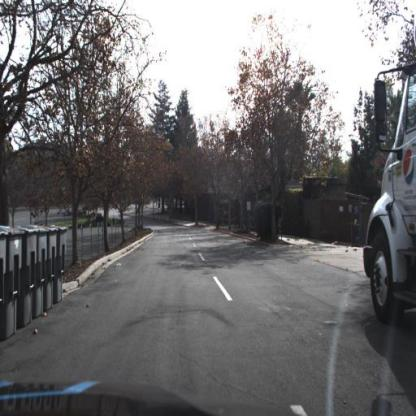truck: (364, 61, 416, 327)
